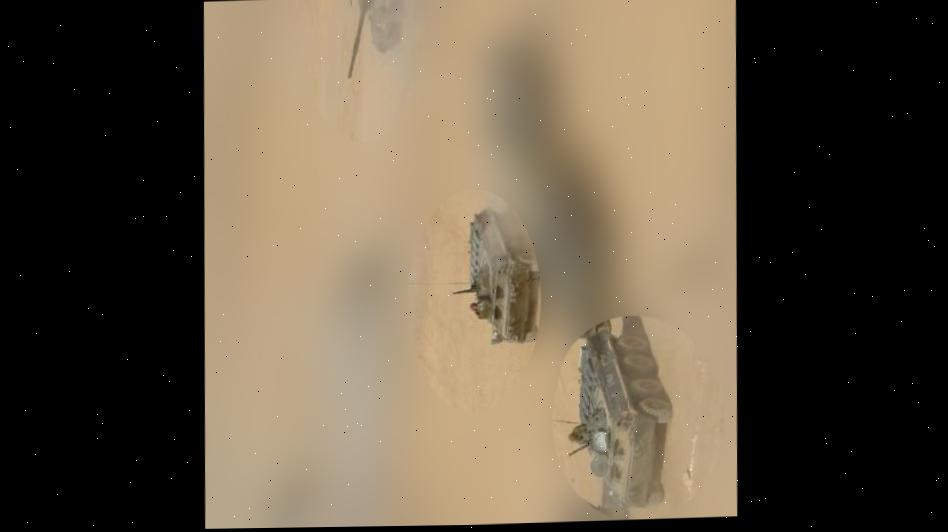armored_car: (568, 330, 680, 509), (447, 194, 544, 350)
tank: (335, 0, 415, 84)
